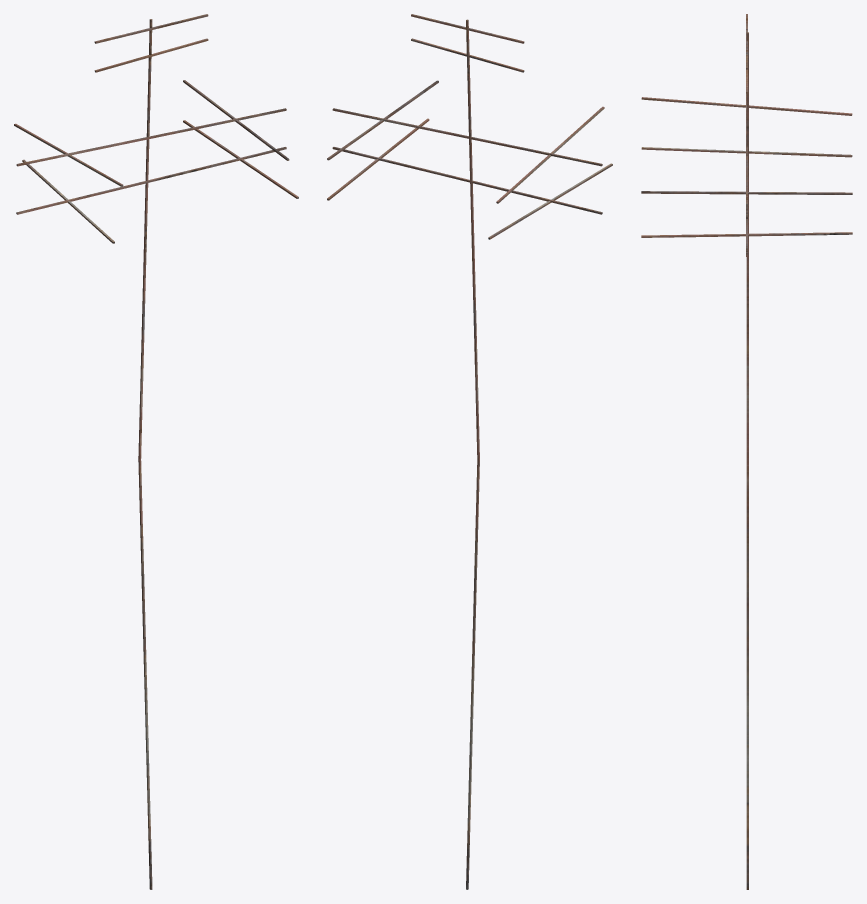
File: Aerial_03.fbx
3 renders of one model, left to right at view 1: azimuth 30°, elevation 25°; view 2: azimuth 150°, elevation 25°; view 3: azimuth 270°, elevation 25°, orthographic.
Parts seen in each view (by area): view 1: Aerial_03; view 2: Aerial_03; view 3: Aerial_03.
Part boxes in pixels (x1=…): Aerial_03: x1=14, y1=14, x2=298, y2=889; Aerial_03: x1=327, y1=14, x2=612, y2=889; Aerial_03: x1=641, y1=14, x2=852, y2=889.
Size of the model in its own units: 139 by 95.8 by 429.
Materials: 1 (1 with a texture image).
